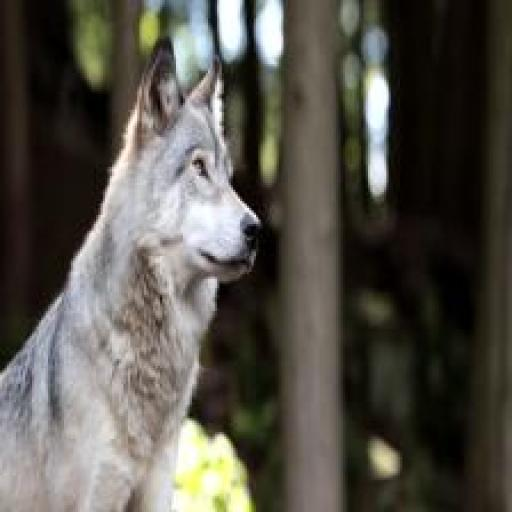wolf: (0, 39, 302, 512)
